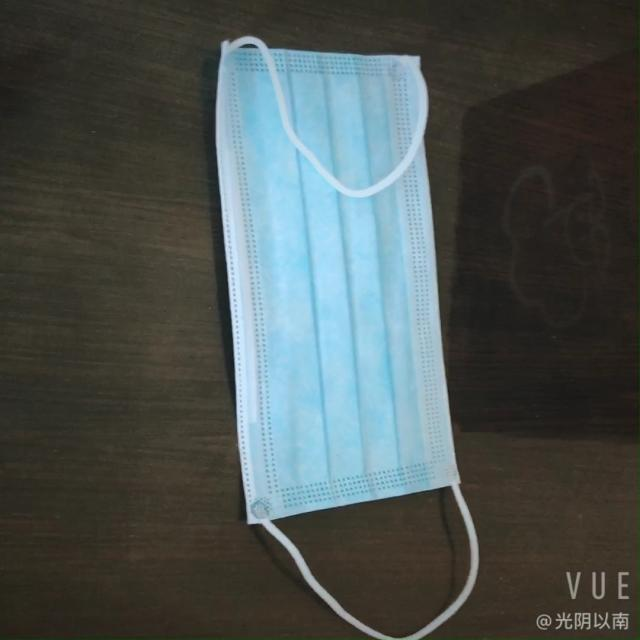face mask: (196, 22, 446, 538)
